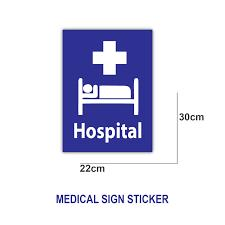Hospital: (52, 23, 166, 160)
